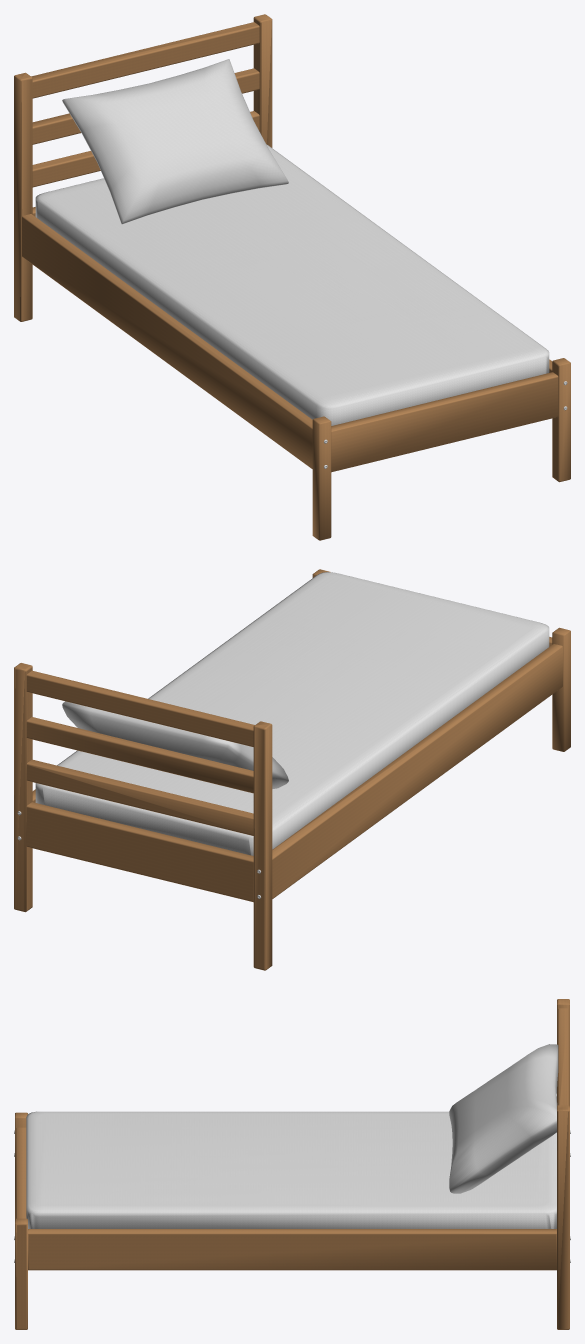
File: bed_sample.glb
3 renders of one model, top to bottom at view 1: azimuth 30°, elevation 25°; view 2: azimuth 150°, elevation 25°; view 3: azimuth 270°, elevation 25°, orthographic. The views are drawn at different scales.
Visible parts, largest first — view 1: Object_3, Object_2, Object_4; view 2: Object_3, Object_2, Object_4; view 3: Object_3, Object_2, Object_4.
Boxes of the visible parts, x1,y1,x2,y2 form: Object_3: (35,144,549,425); Object_2: (14,14,570,540); Object_4: (62,59,288,224); Object_3: (35,572,549,855); Object_2: (14,569,570,970); Object_4: (62,701,288,788); Object_3: (26,1111,556,1228); Object_2: (14,999,570,1329); Object_4: (449,1044,558,1193).
Bounding box in the file's own units: 1 × 0.9185 × 2.11.
Materials: 3 (3 with a texture image).
